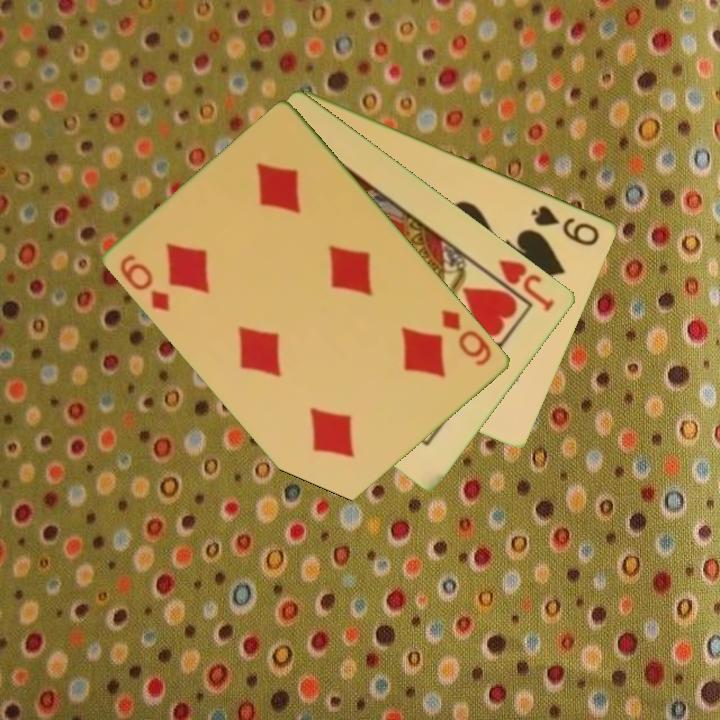6d: (438, 306, 496, 369), (117, 251, 174, 315)
9s: (527, 201, 603, 249)
Jh: (483, 256, 558, 314)
